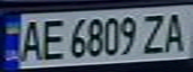0: (103, 15, 121, 57)
6: (66, 15, 87, 60)
8: (84, 15, 106, 58)
9: (118, 12, 142, 57)
A: (160, 9, 193, 54), (15, 17, 45, 63)
E: (39, 16, 66, 62)
Z: (139, 11, 169, 56)
